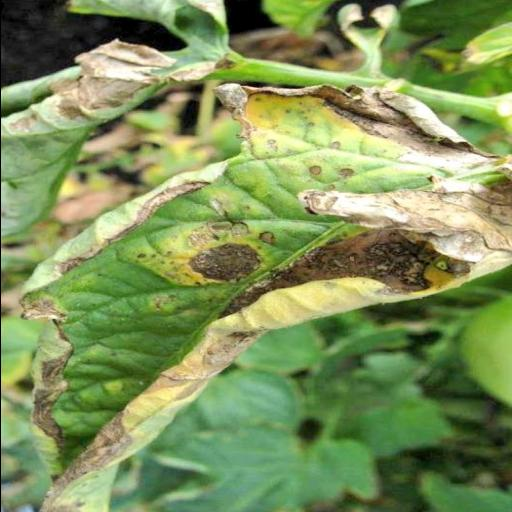Early Blight: (21, 80, 512, 512)
